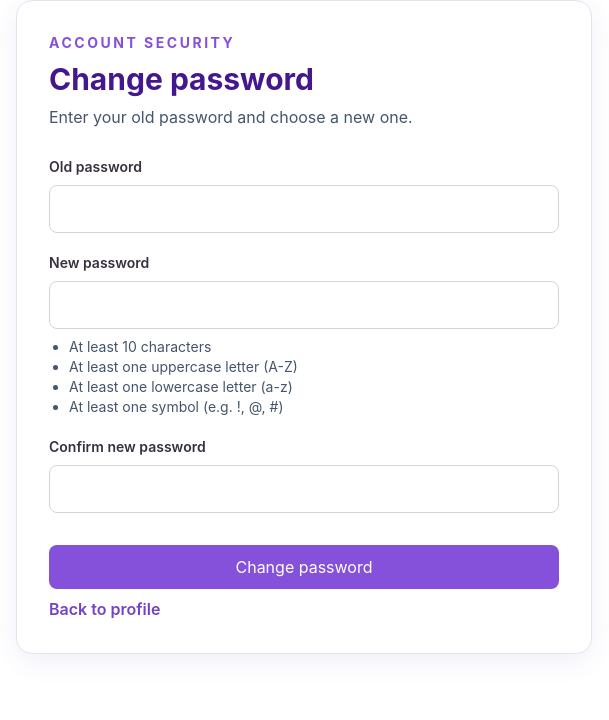
Test: rejects weak
In the password field labelled "Old password": point(304, 209) [49,185,559,233], type "old"
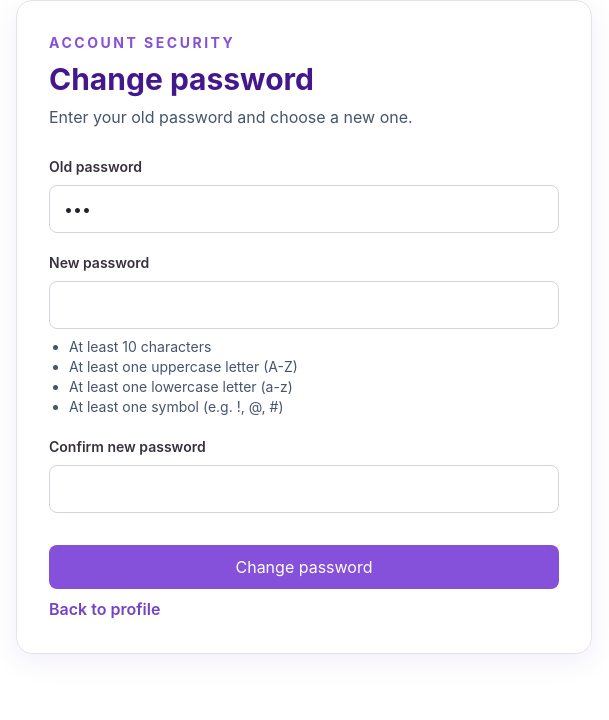
In the password field labelled "New password": point(304, 305) [49,281,559,329], type "weak"
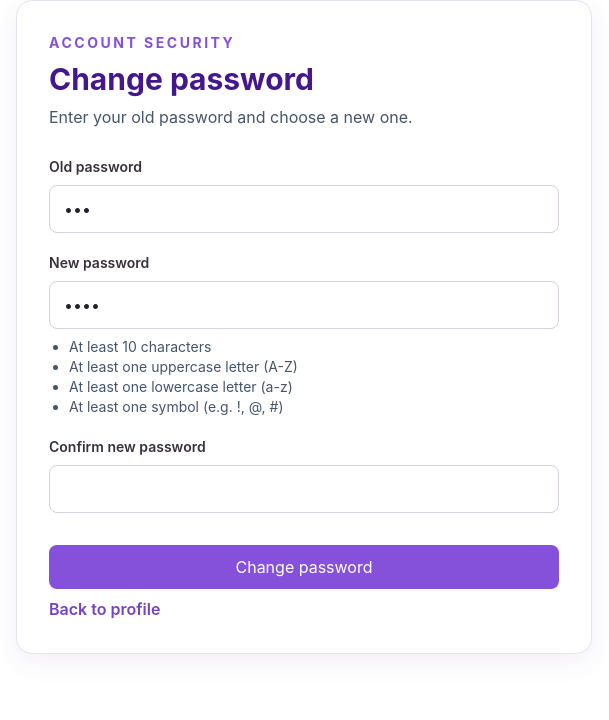
In the password field labelled "Confirm new password": point(304, 489) [49,465,559,513], type "weak"
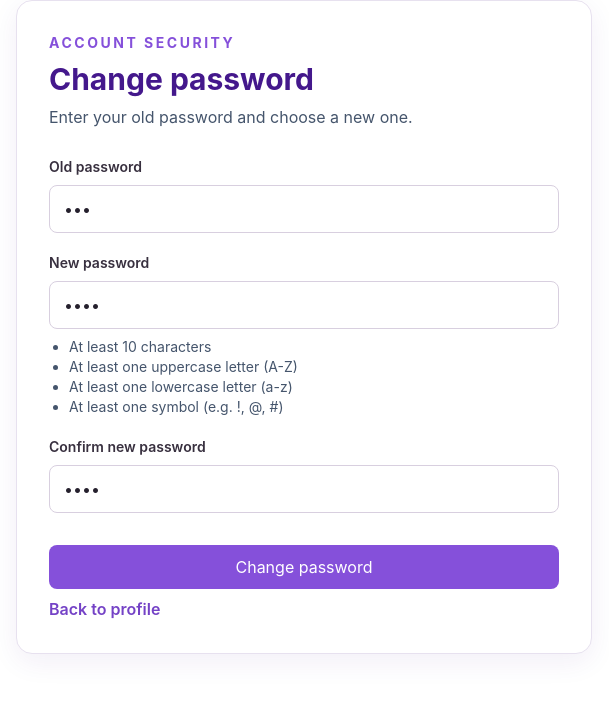
Click the button "Change password": point(304, 567) [49,545,559,589]
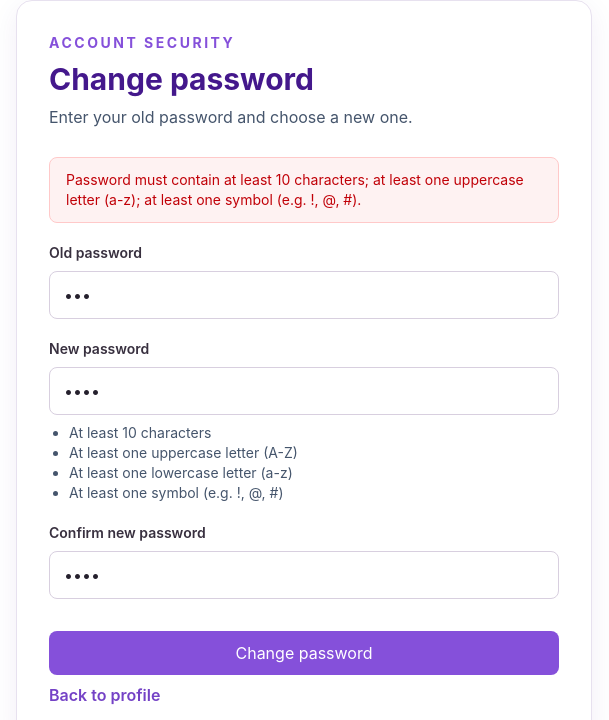
Expected: the message shows "at least 10 characters", [66,171,524,208]
